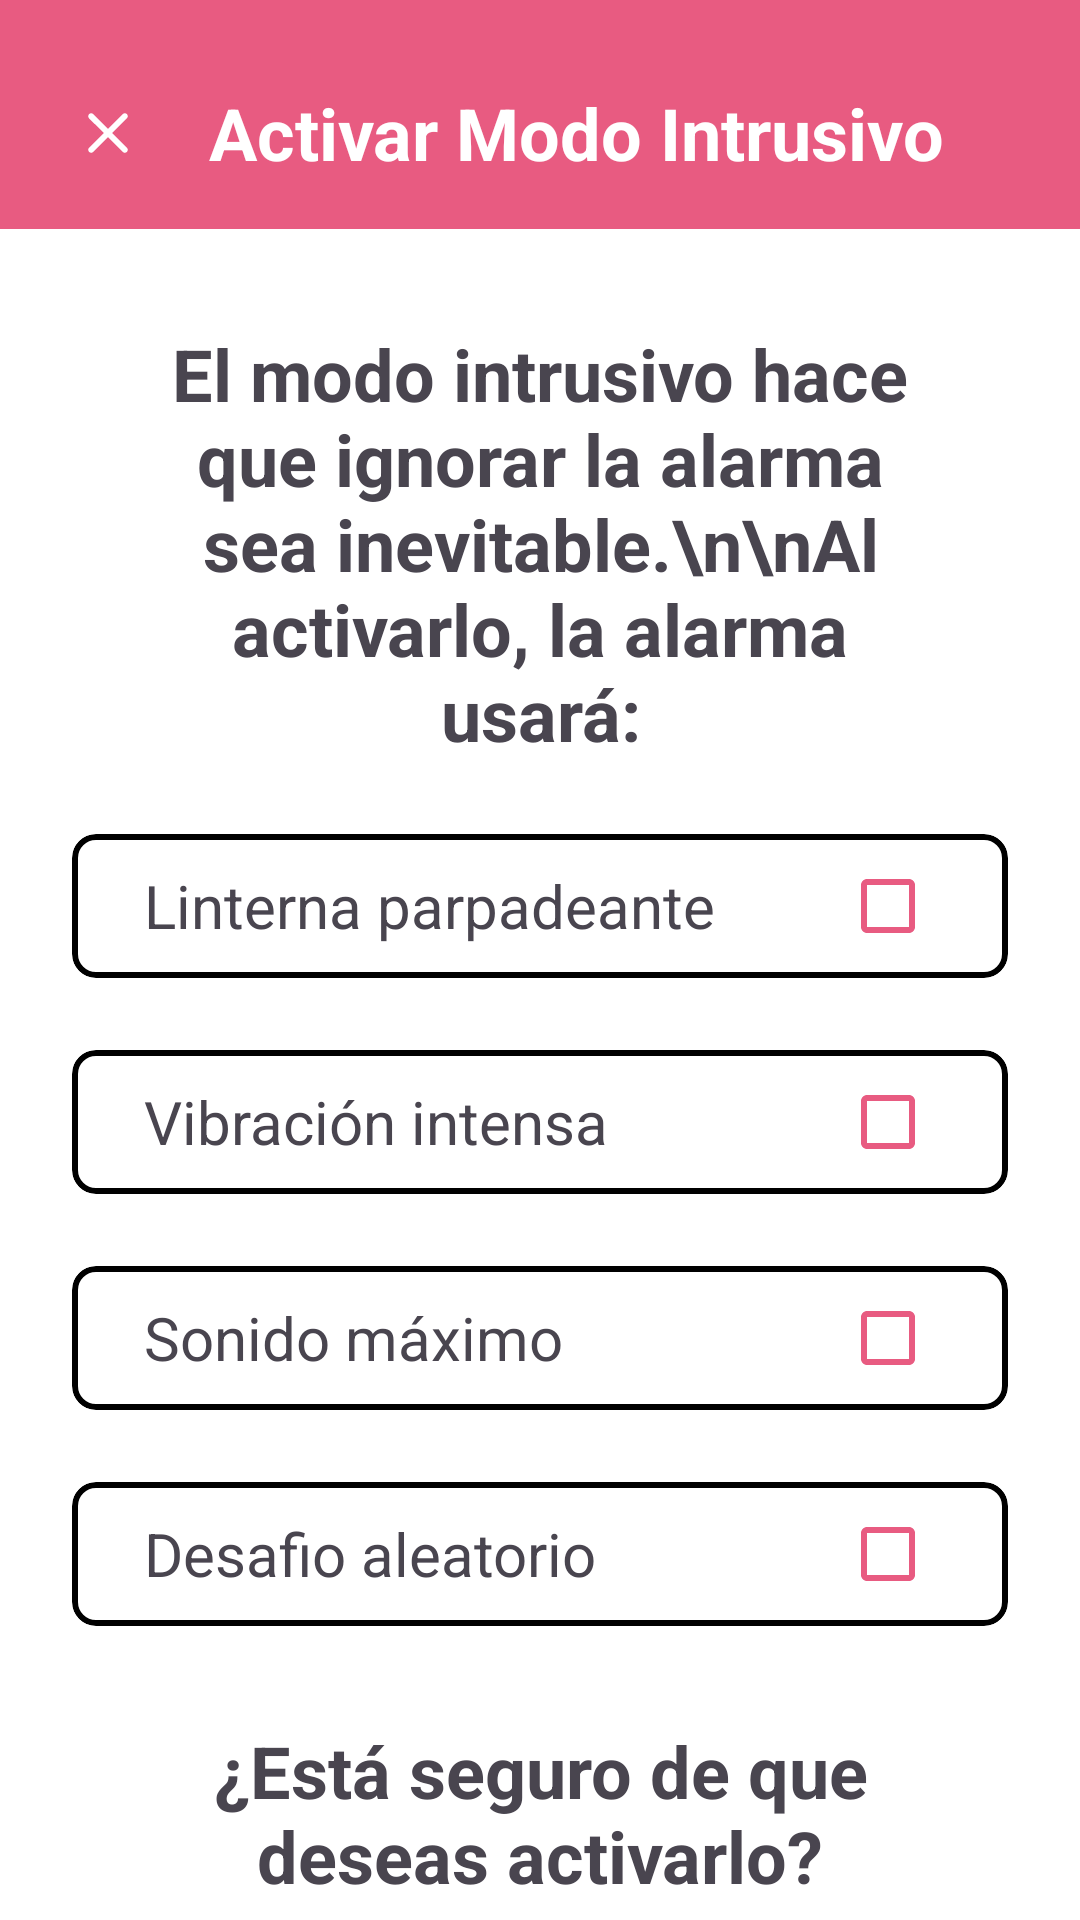

Point at icon controls on the screen. Image size 1080x1920, points as point (x, y).
close: point (108, 133)
